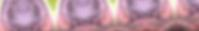Tomato Early blight leaf: (73, 0, 126, 31)
